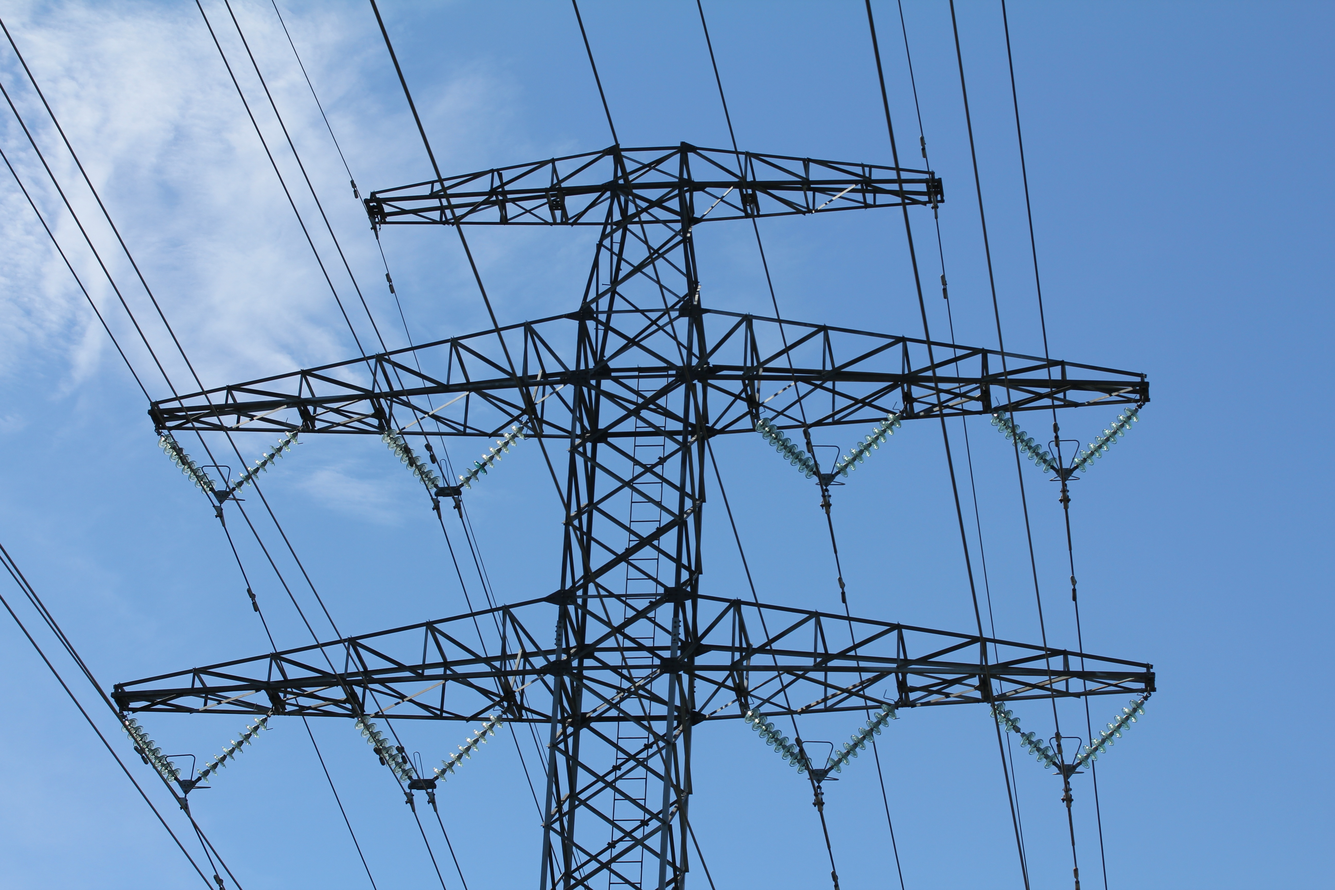insulator: (1066, 687, 1158, 779), (423, 710, 511, 797), (982, 688, 1066, 777), (732, 689, 813, 781), (817, 693, 904, 778), (456, 406, 539, 495), (347, 704, 425, 797), (218, 423, 305, 504), (186, 713, 273, 790), (825, 406, 904, 487), (1068, 405, 1150, 477), (367, 426, 443, 502), (989, 402, 1060, 479), (148, 422, 214, 500), (115, 710, 182, 786), (755, 424, 821, 483)
